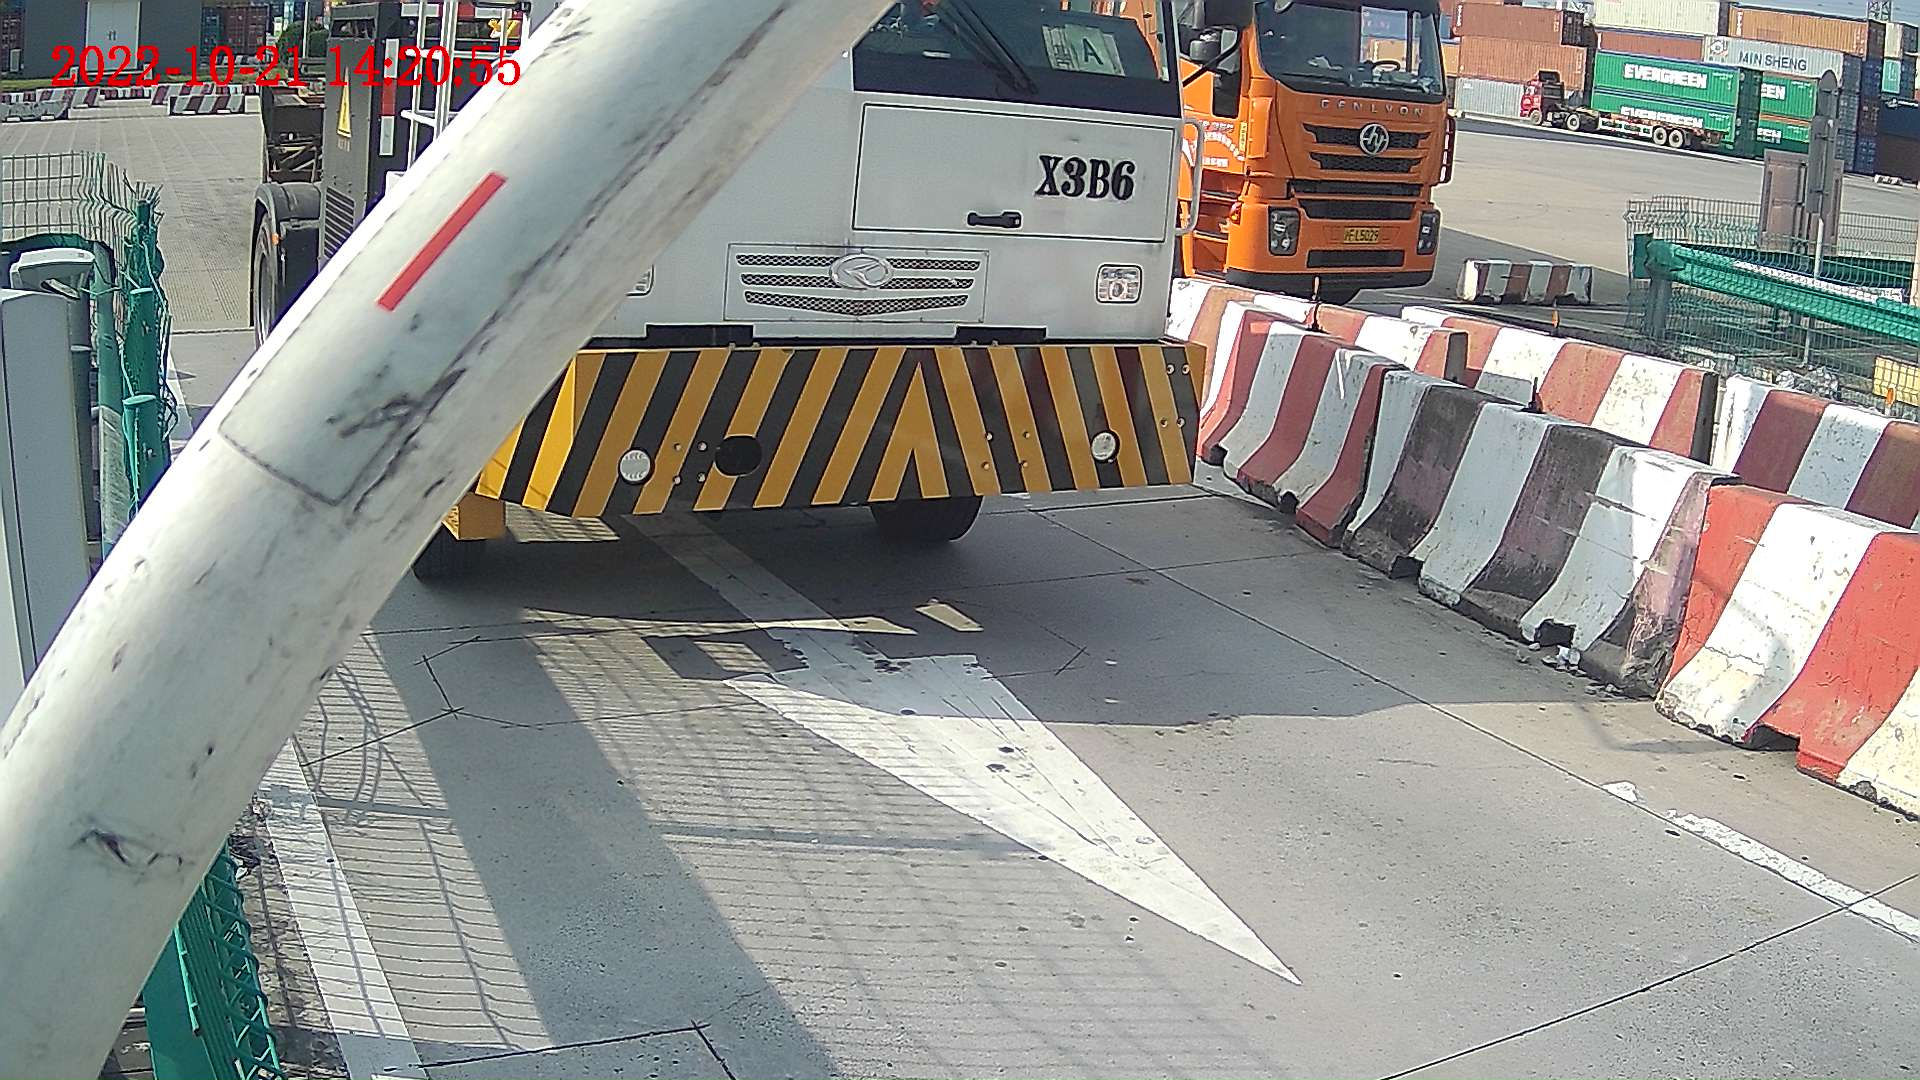head: (335, 1, 1217, 577)
